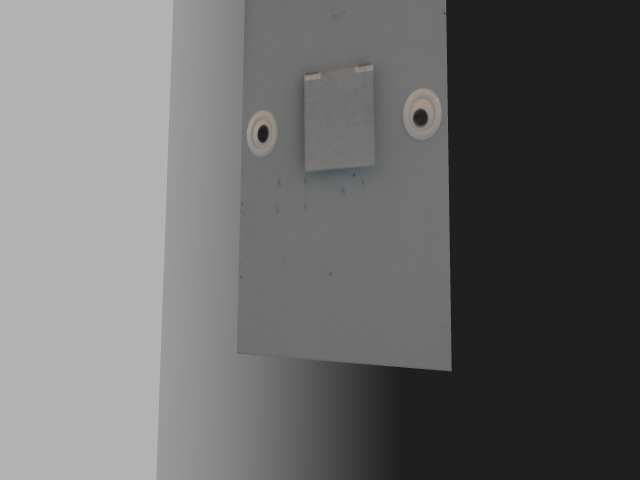facade: (246, 61, 442, 175)
